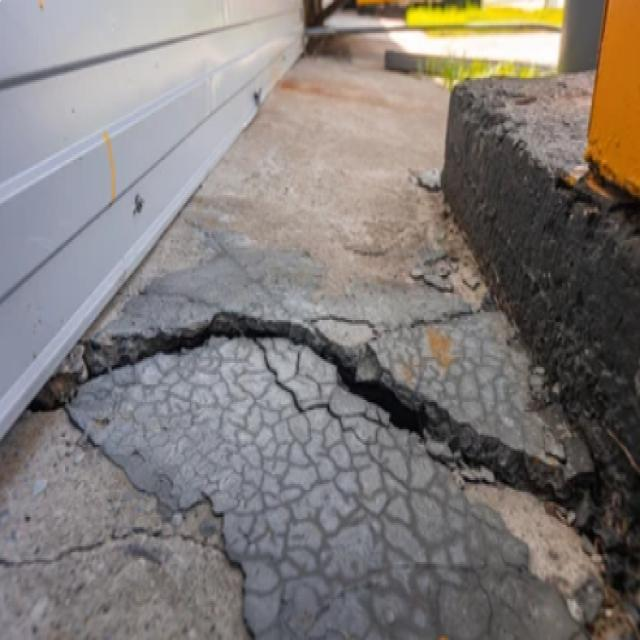branched cracks: (27, 312, 598, 503), (251, 338, 389, 427)
